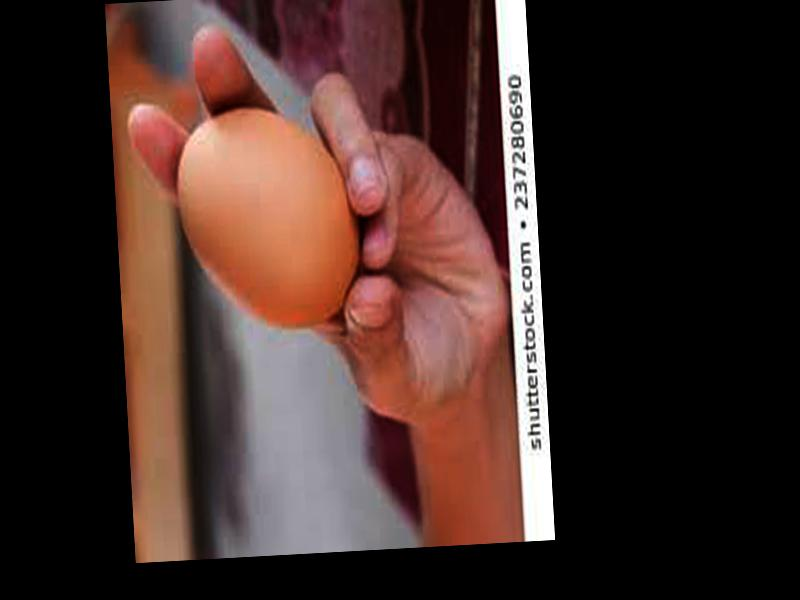Eggs: (174, 99, 362, 331)
